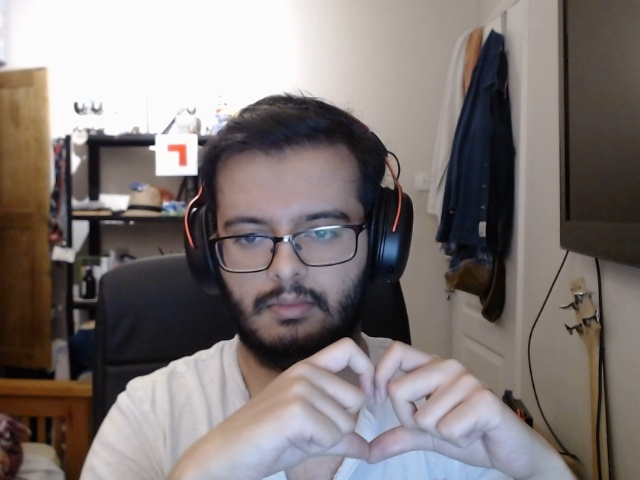Heart: (222, 335, 537, 471)
